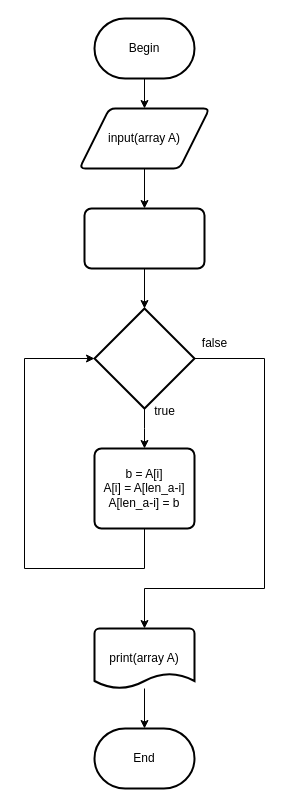
Image size: 290x806. Some labels were removed from this diagram. The centre of each missing label's shape, as x and y in pixels:
"i < len_a / 2" belongs at point 144,358.
"len_a = size_of(A) i = 0" belongs at point 144,238.
